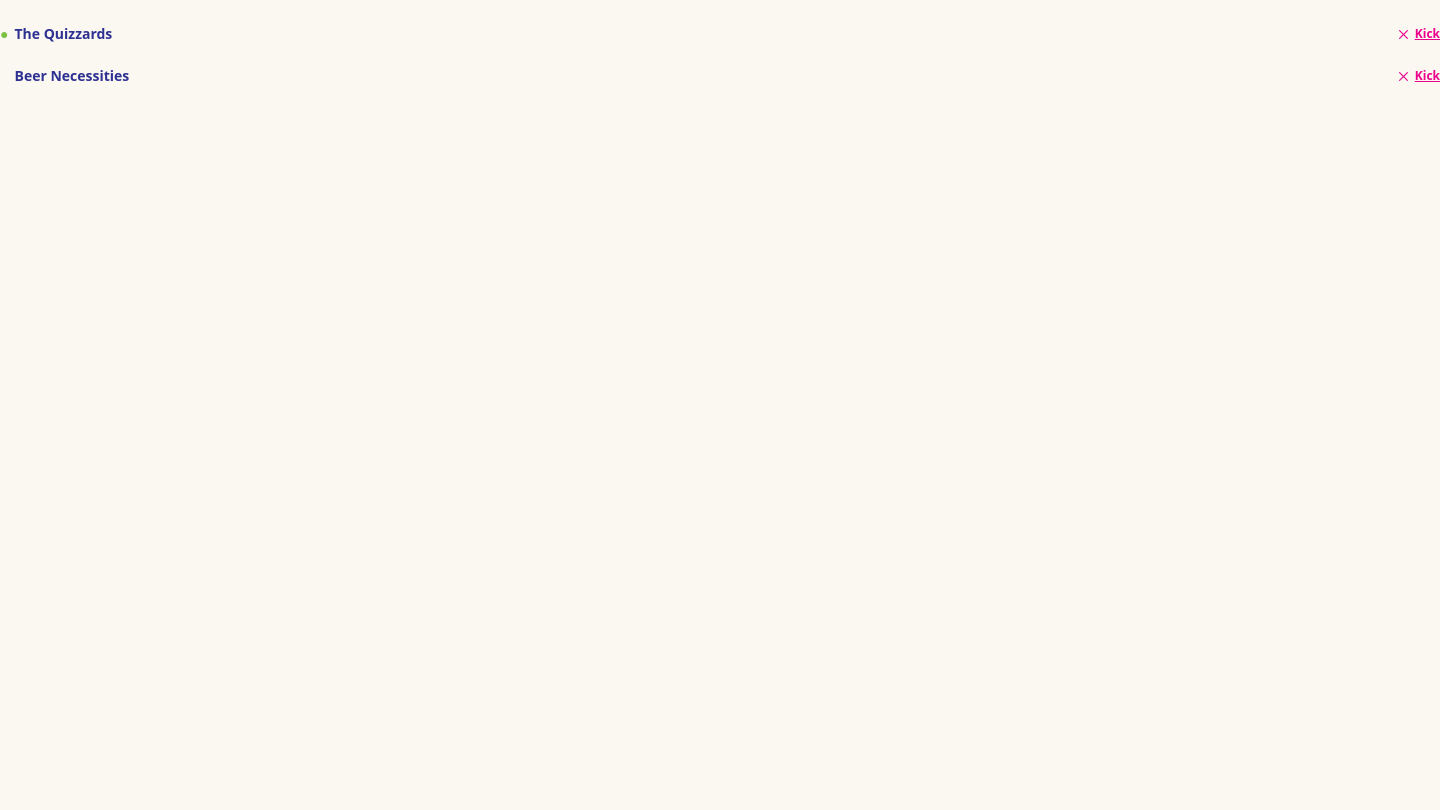
it: TeamsPanel › does not kick a team when the confirmation is cancelled
Click the button "Kick" in the row of "Beer Necessities" at (1418, 76), box [1396, 68, 1439, 84]
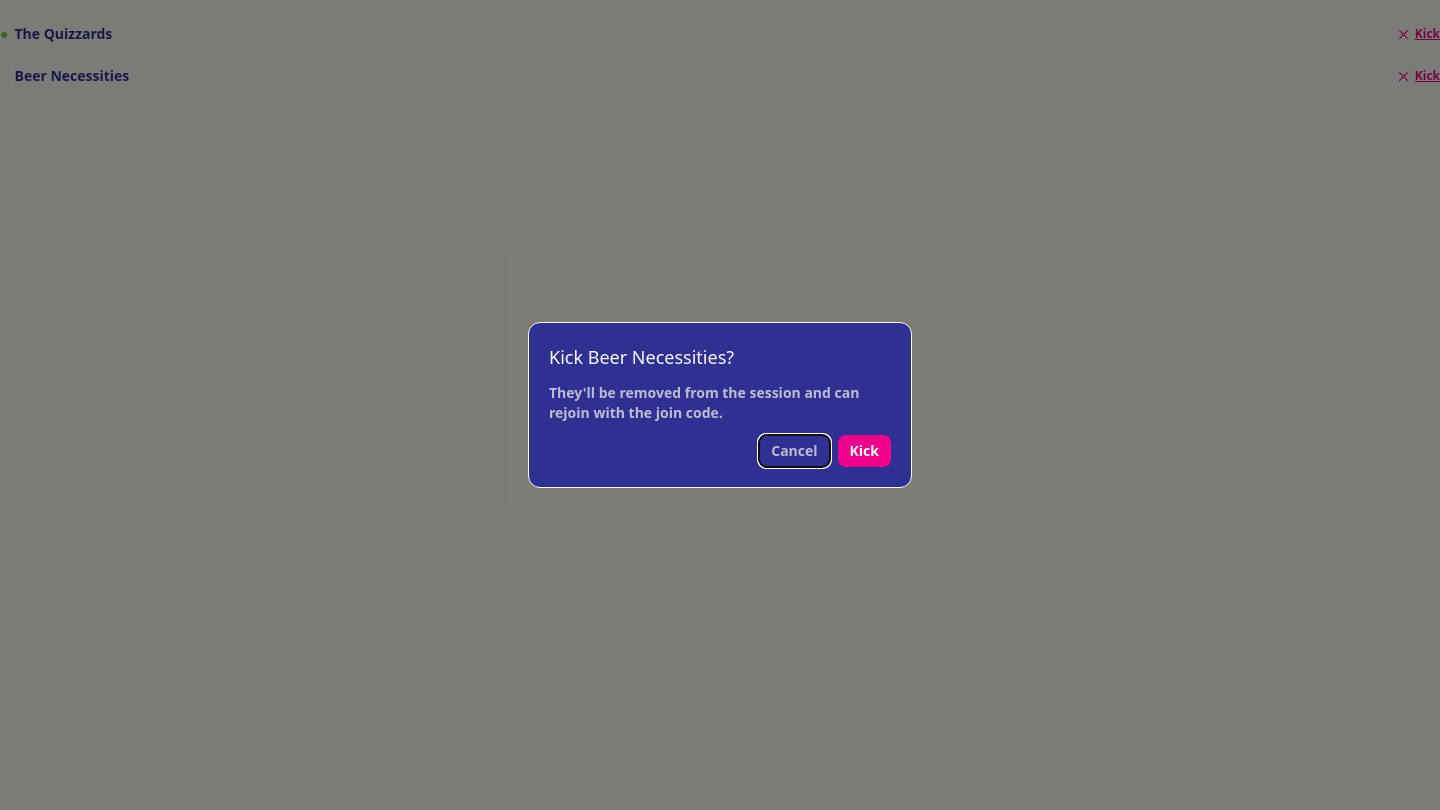
Click the button "Cancel" at (794, 451), box [759, 435, 830, 467]
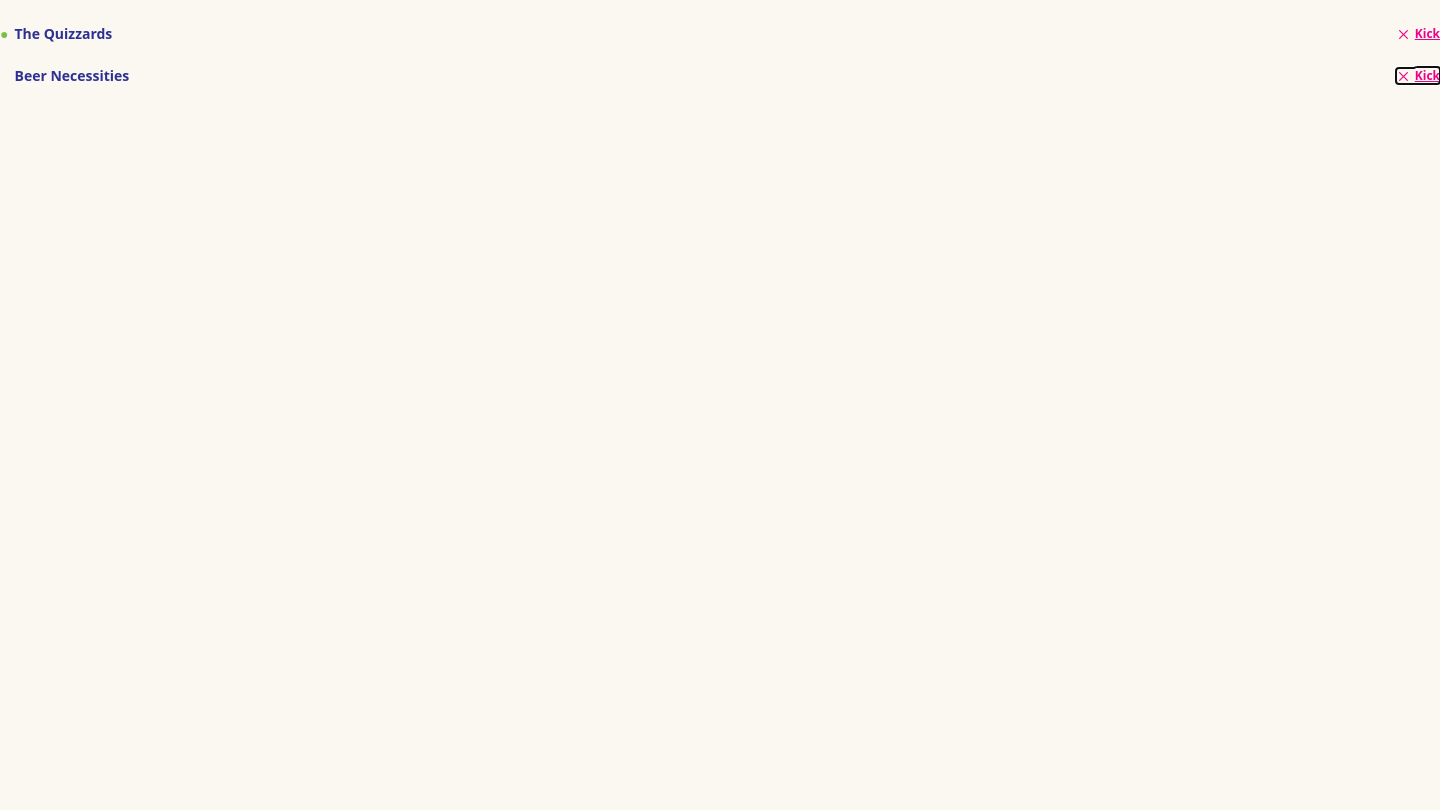
Expected: the heading "Kick Beer Necessities?" is gone
